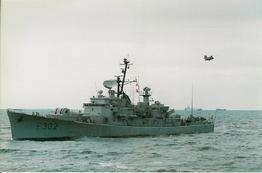warship: (6, 53, 215, 140)
